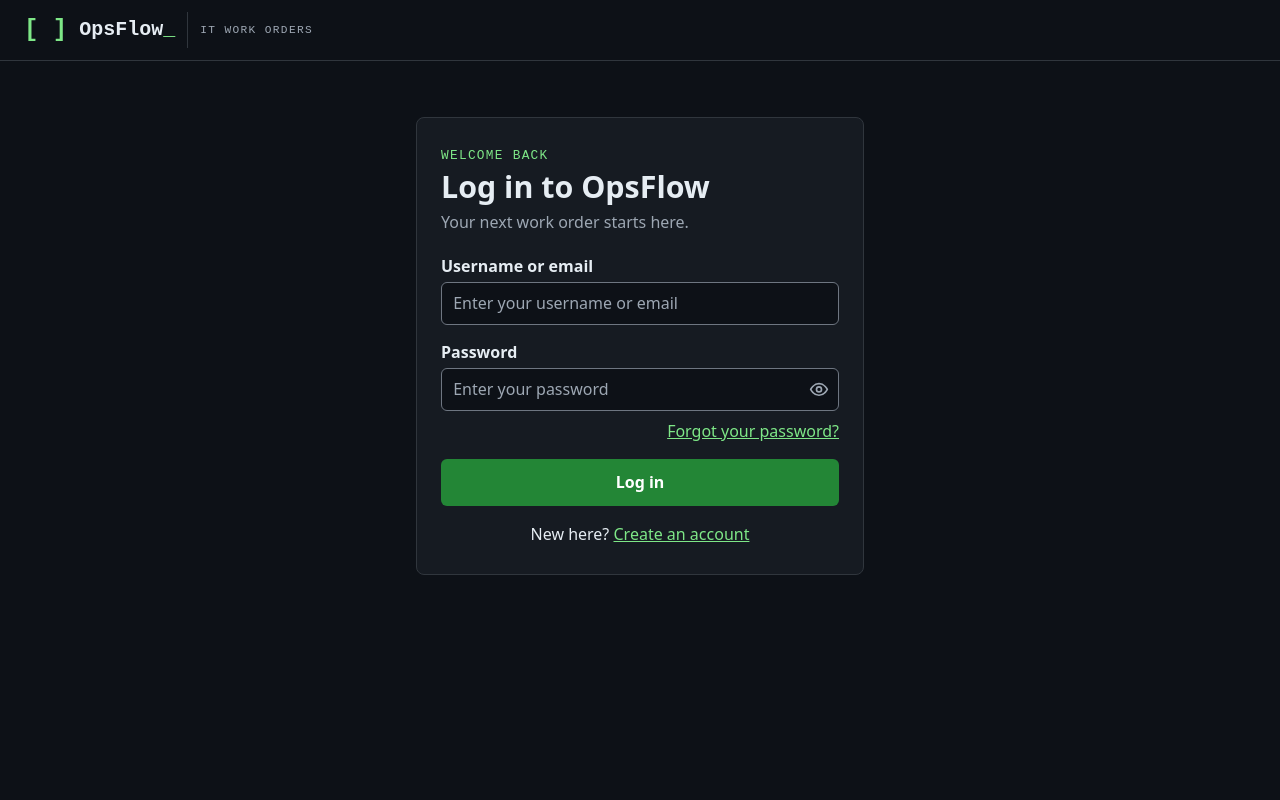
Scenario: web authentication screens › shows a wrong-password error from the API
Type "jrivera" into the field labelled "Username or email" at (640,304), box x1=441 y1=282 x2=839 y2=325
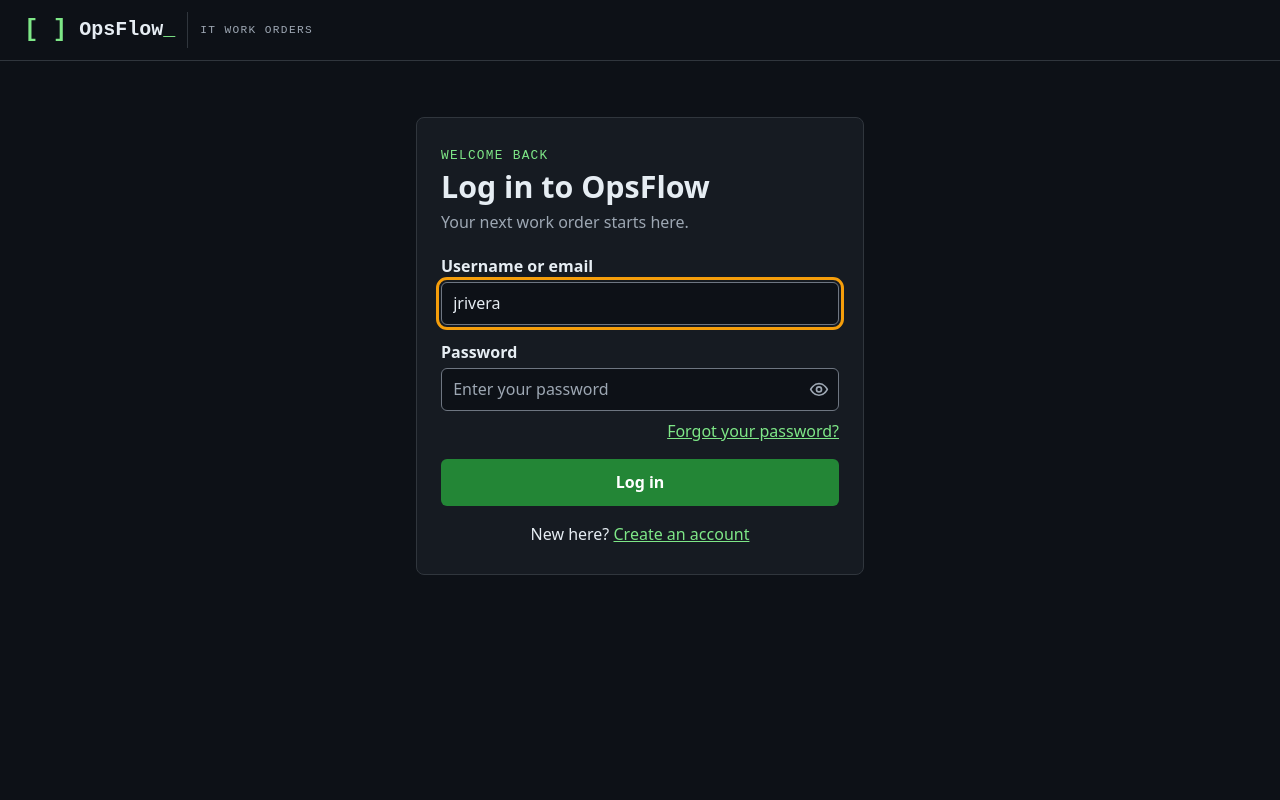
Type "wrong-password1" into the password field labelled "Password" at (640,390), box x1=441 y1=368 x2=839 y2=411
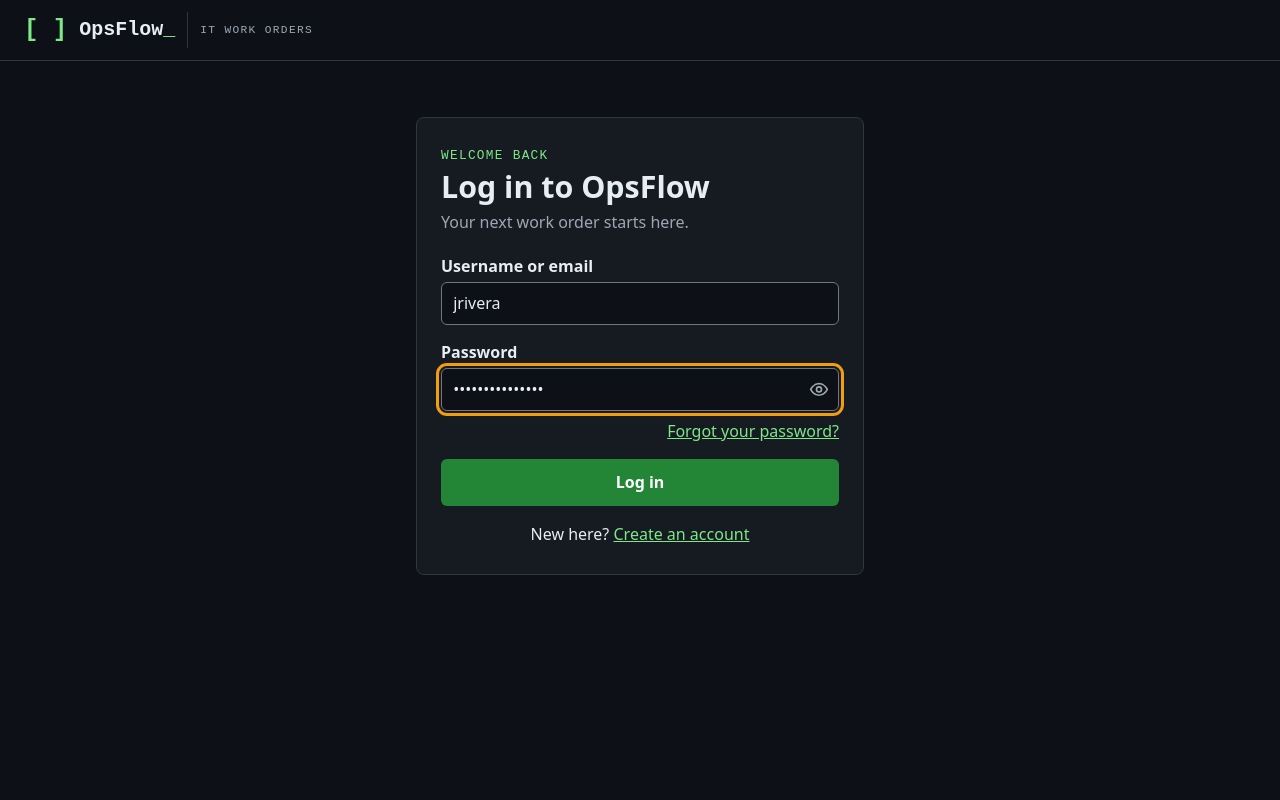
Click the button "Log in" at (640,482), box x1=441 y1=459 x2=839 y2=506
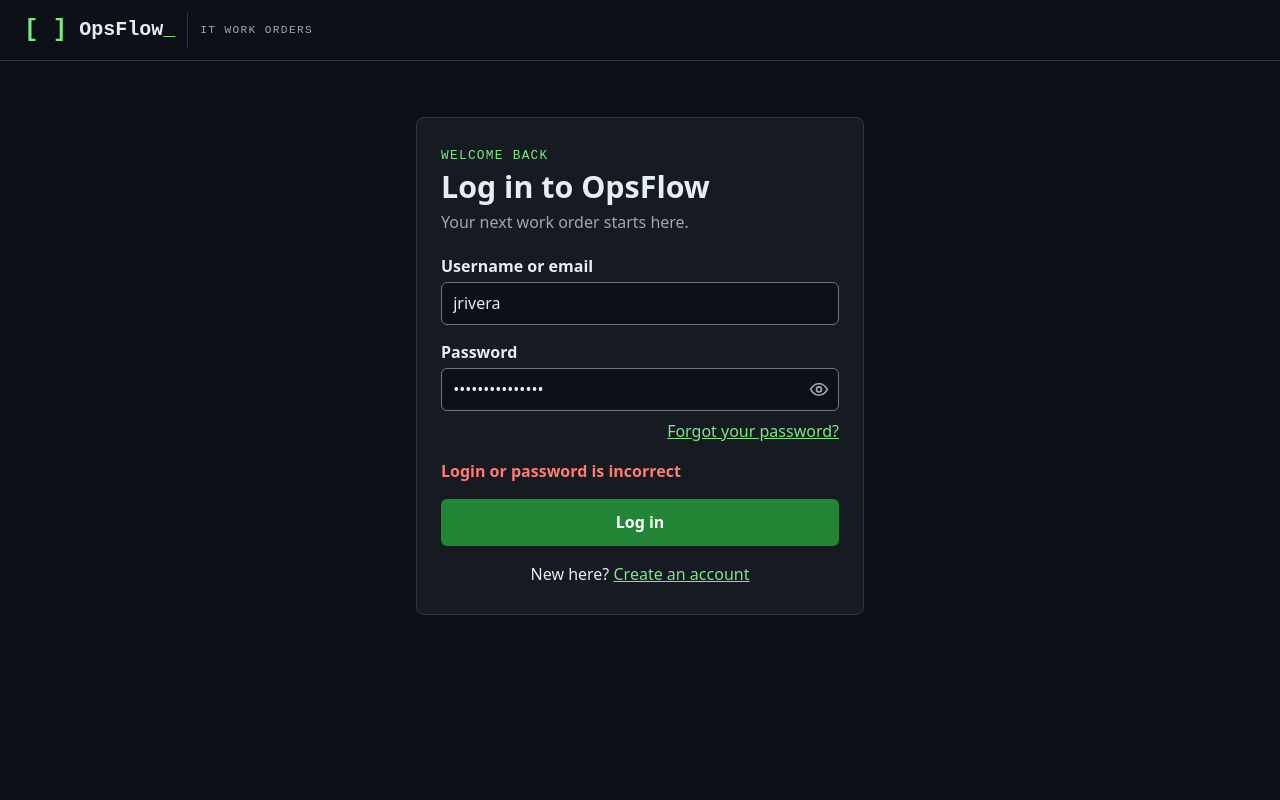
Result: the message reads "Login or password is incorrect" at x1=441 y1=460 x2=681 y2=482
